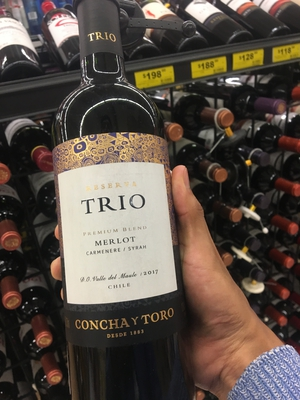trio merlot: (40, 12, 190, 400)
